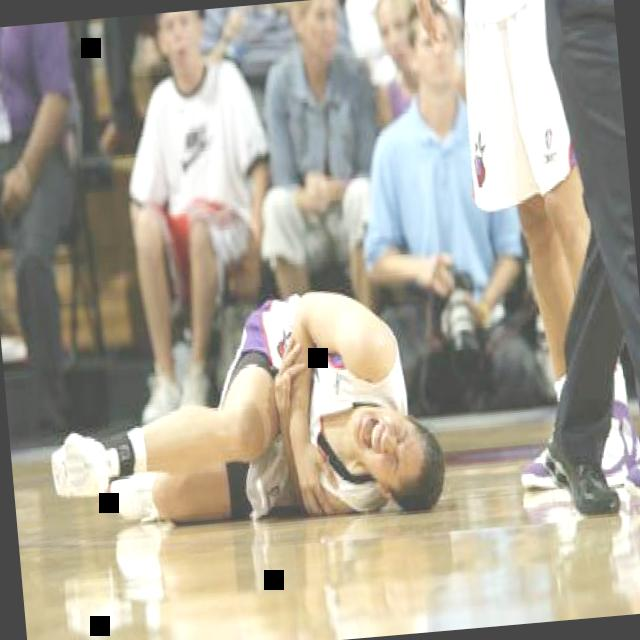Fall-Detected: (35, 248, 458, 552)
